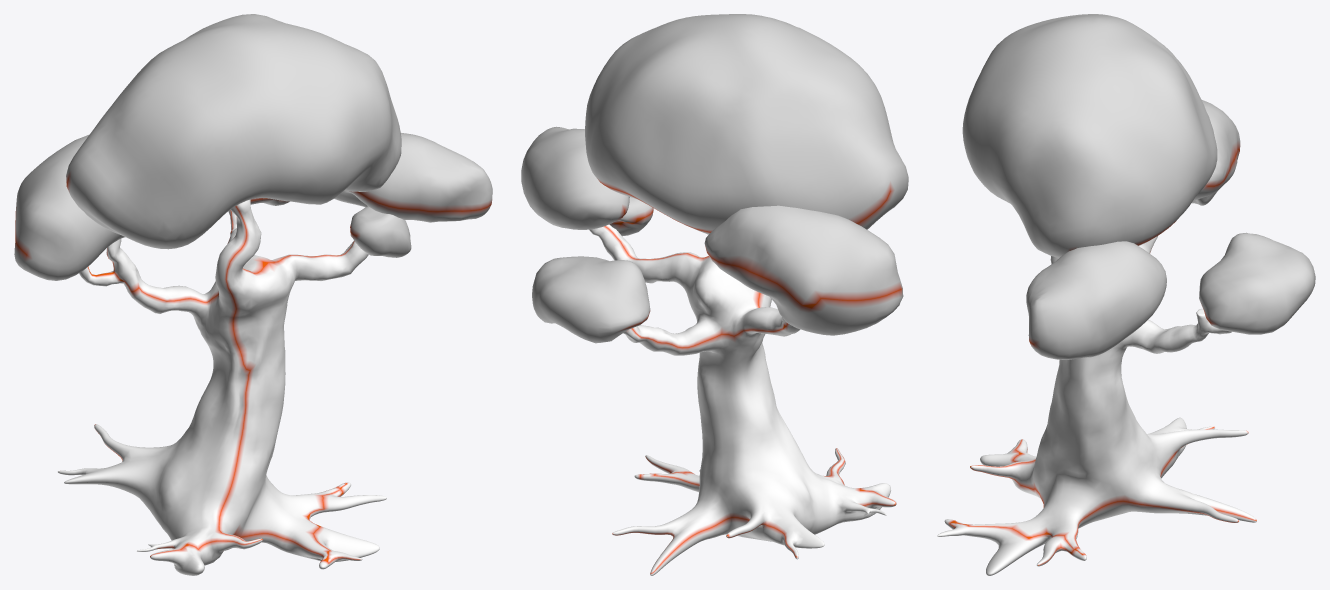
File: tree 1 final.fbx
3 views of the same model, side by side, from view 1: azimuth 30°, elevation 25°; view 2: azimuth 150°, elevation 25°; view 3: azimuth 270°, elevation 25° (orthographic).
Visible parts, largest first — view 1: tree; view 2: tree; view 3: tree.
Boxes of the visible parts, bbox=[...] form: tree: bbox=[14, 14, 492, 575]; tree: bbox=[521, 14, 908, 575]; tree: bbox=[937, 14, 1315, 575].
Bounding box in the file's own units: 8.3 × 9.67 × 6.48.
